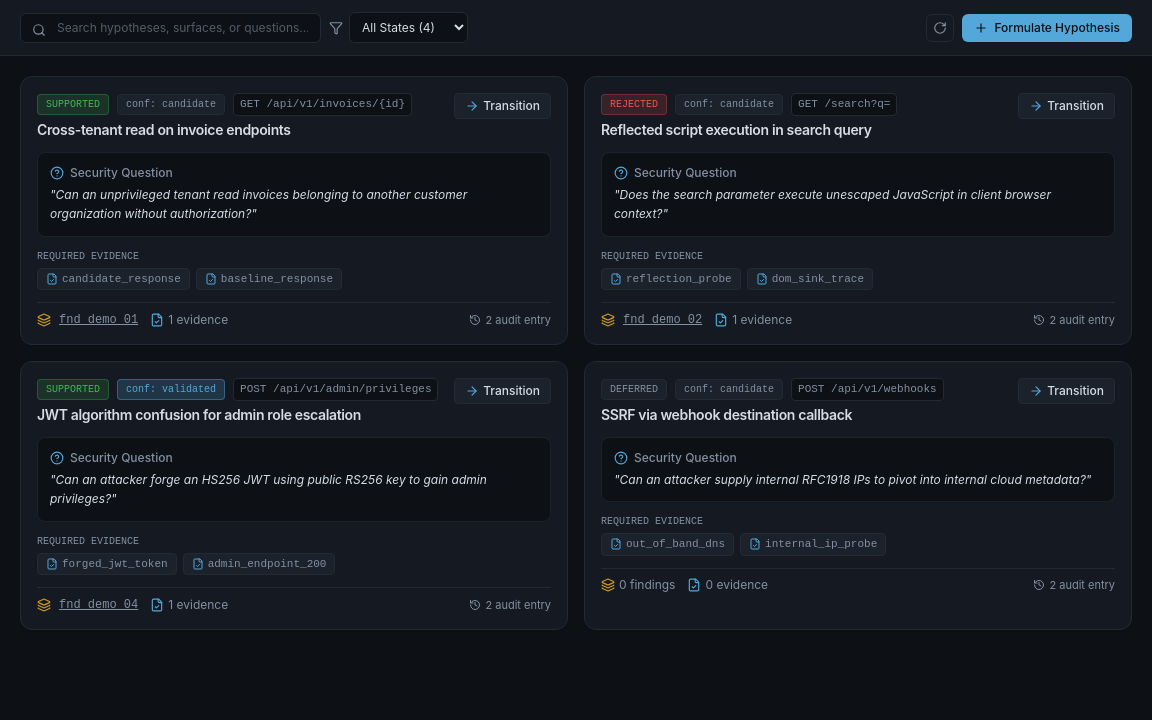
Scenario: Hypotheses & Reports (Milestone 6) UI Tests › Hypotheses Tab › transitions hypothesis state with mandatory justification reason
This screenshot has width=1152, height=720.
Check: the heading "Reflected script execution in search query" is shown, box [601,120,898,140]
Click Transition on the rejected card
Step 1. Click the button "Transition" next to "GET /api/v1/invoices/{id}" → (503, 106), box [454,93,551,119]
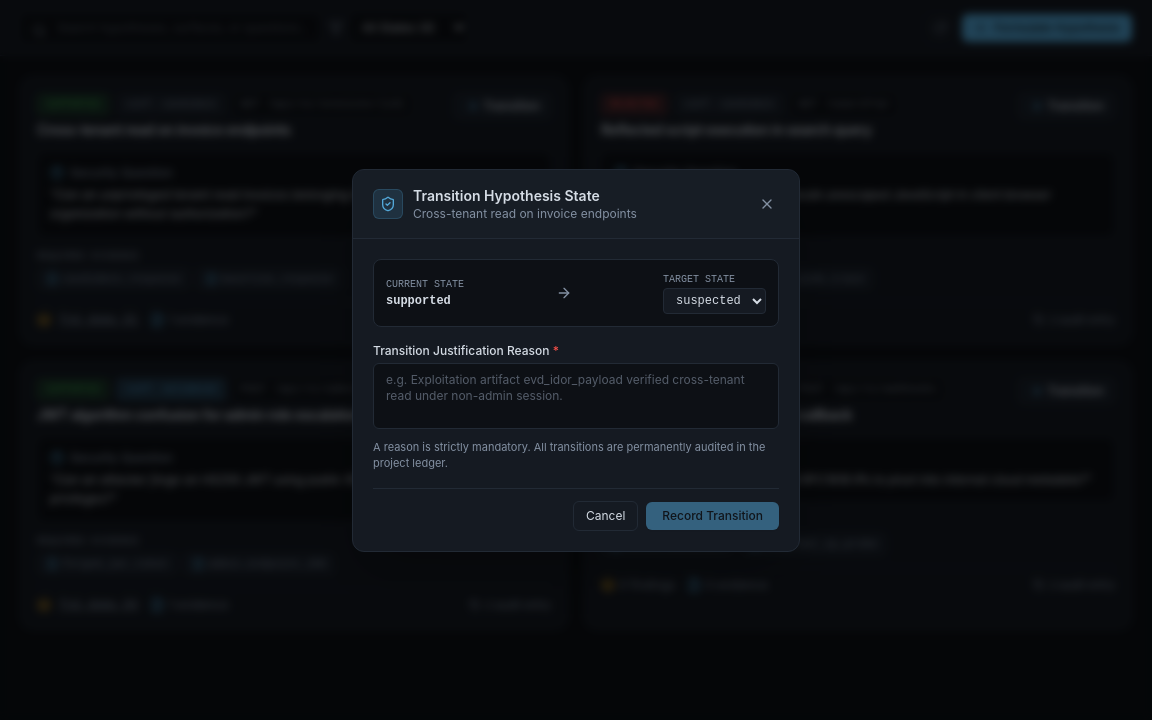
Check: the heading "Transition Hypothesis State" is shown, box [413,186,600,204]
Check: the button "Record Transition" is disabled, box [646,502,779,530]
Enter reason
Step 2. Replace the text in the text box labelled "Transition Justification Reason *" with "Confirmed by independent security verification." → (576, 396), box [373,362,779,428]
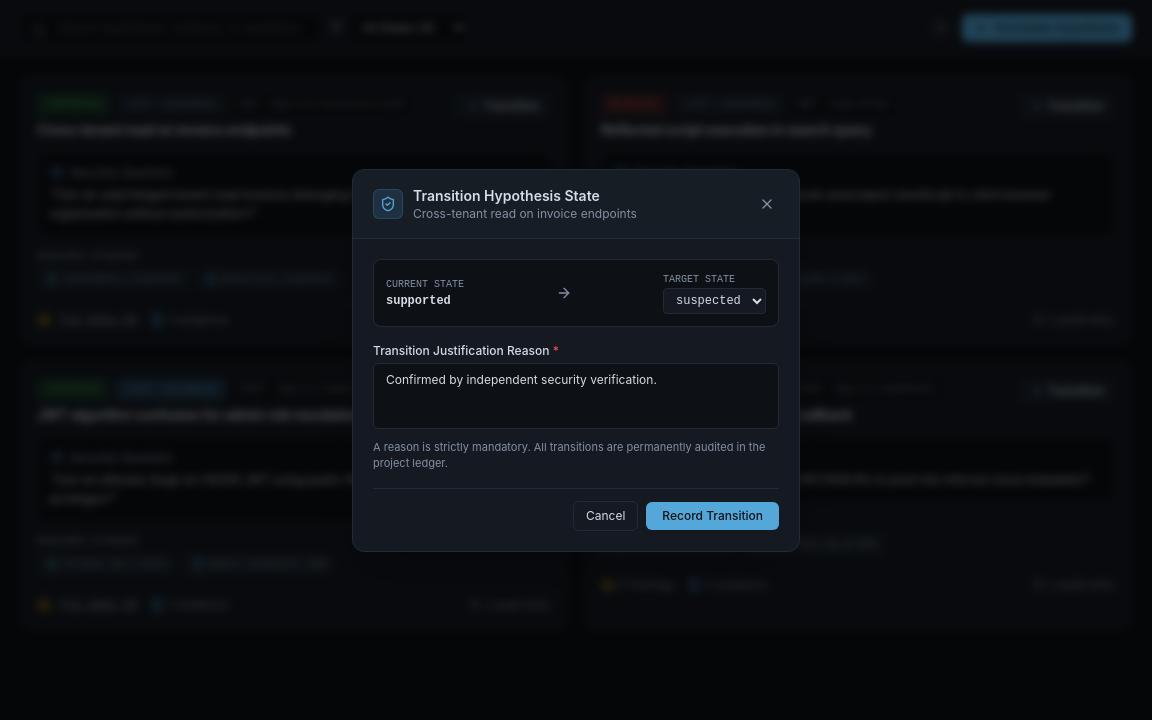
Check: the button "Record Transition" is enabled
Submit transition
Step 3. Click the button "Record Transition" → (713, 516), box [646,502,779,530]
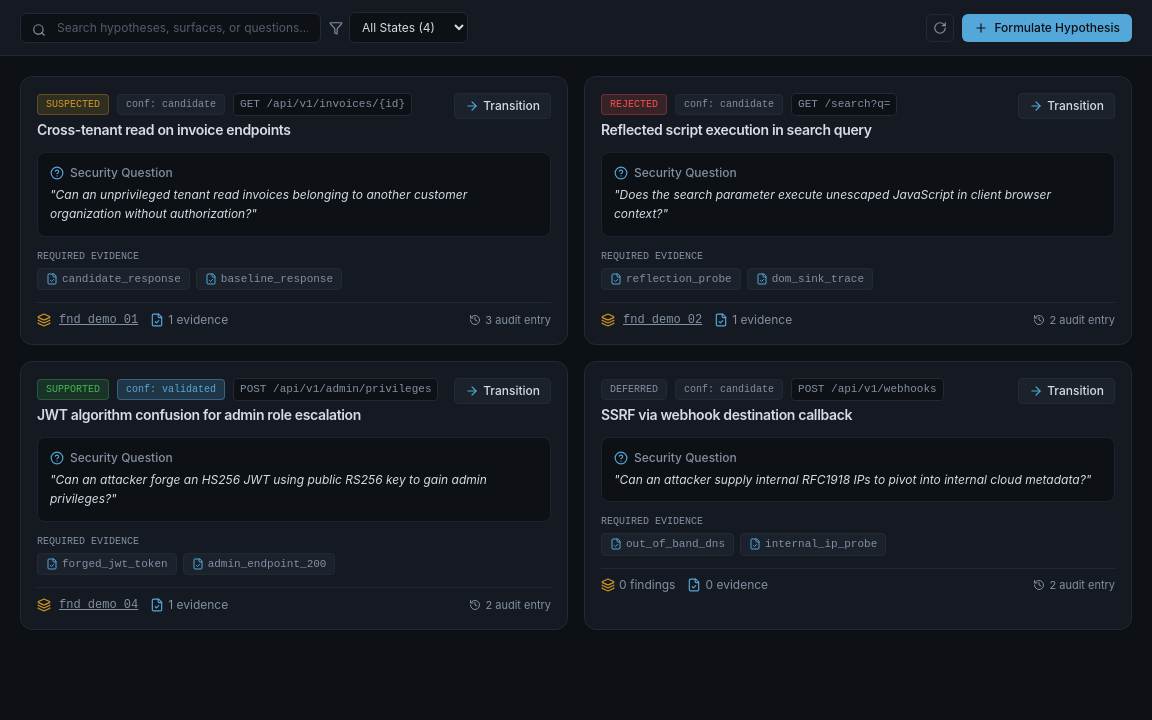
Check: the heading "Transition Hypothesis State" is gone
